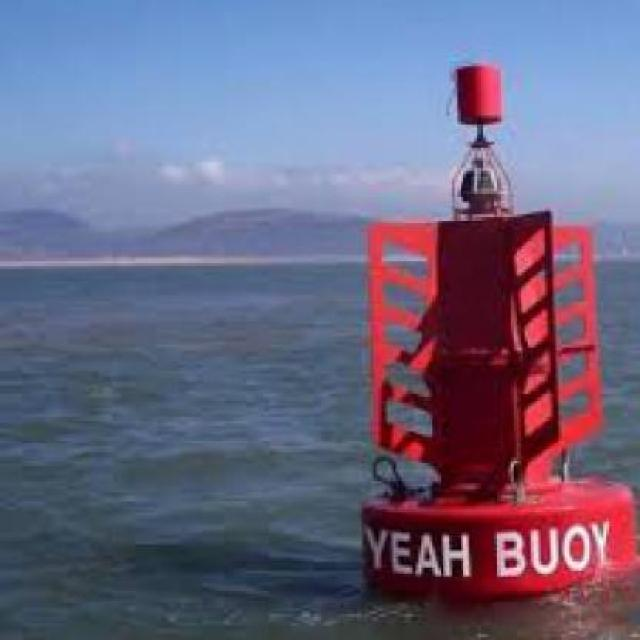buoy: (330, 59, 639, 616)
